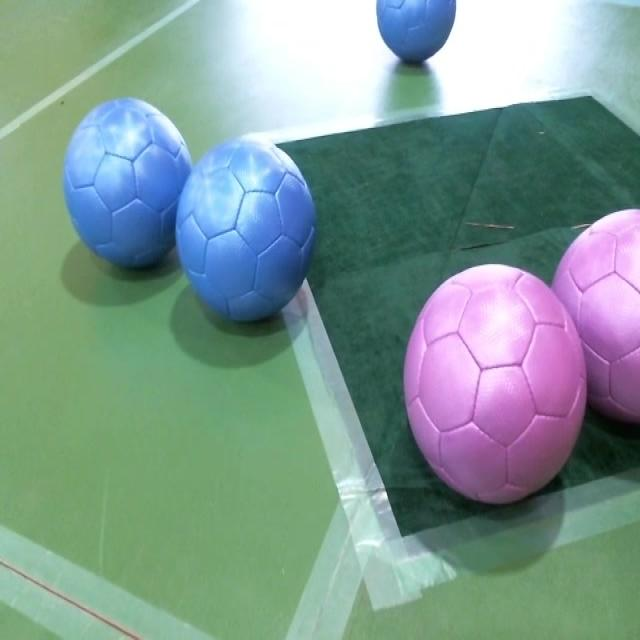blue_ball: (178, 137, 318, 328), (63, 94, 192, 274), (374, 0, 457, 65)
purple_ball: (403, 264, 584, 502), (551, 208, 640, 432)
